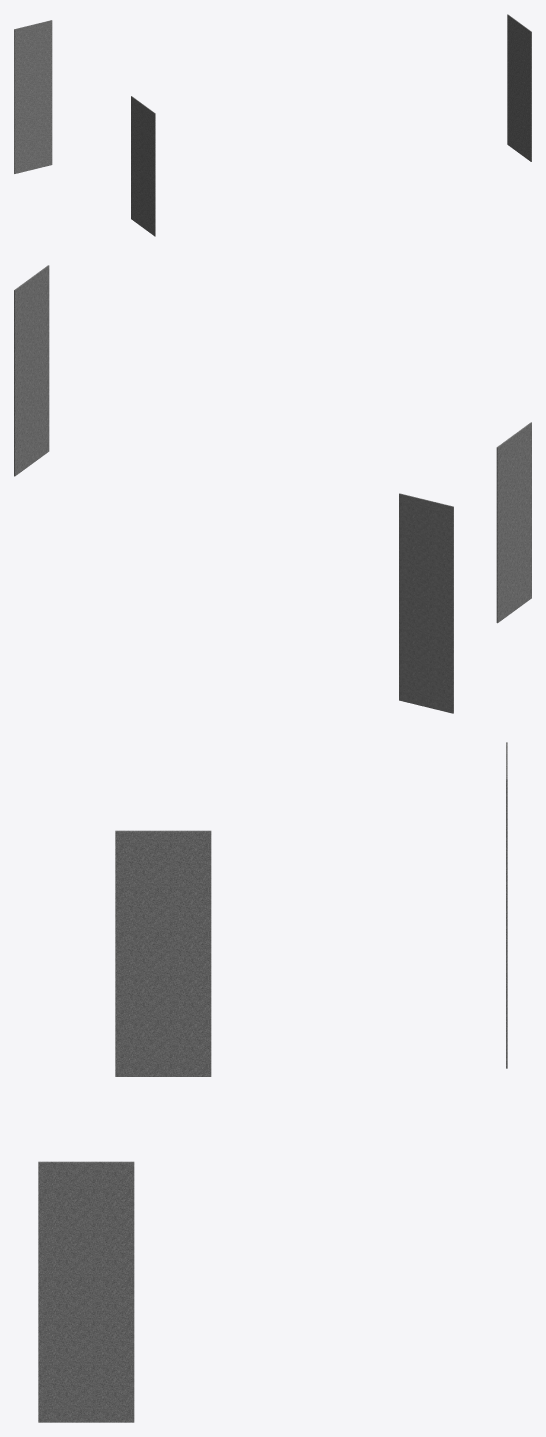
3 views of the same model, one above another, from view 1: azimuth 30°, elevation 25°; view 2: azimuth 150°, elevation 25°; view 3: azimuth 270°, elevation 25° (orthographic). The views are drawn at different scales.
Size of the model in its own units: 5.8 by 2.02 by 2.94.
Materials: 1 (1 with a texture image).
